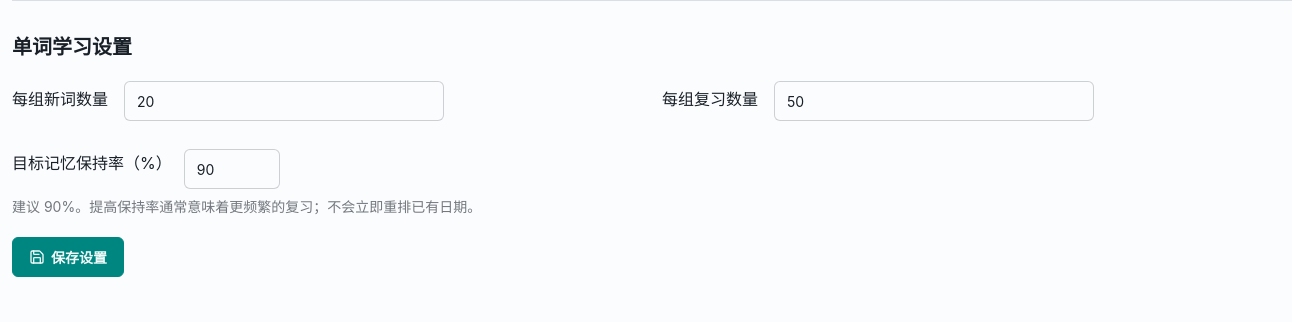
Test: WordStudySettingsPanel › validates learning and review limits independently
This screenshot has width=1292, height=322.
Replace the text in the number field labelled "每组新词数量" with "101" at (284,101), box [124,81,444,121]
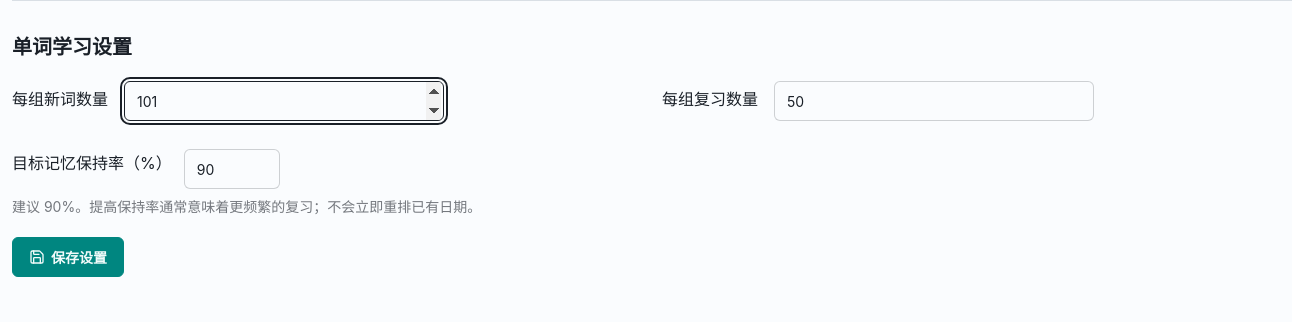
Replace the text in the number field labelled "每组复习数量" with "201" at (934,101), box [774,81,1094,121]
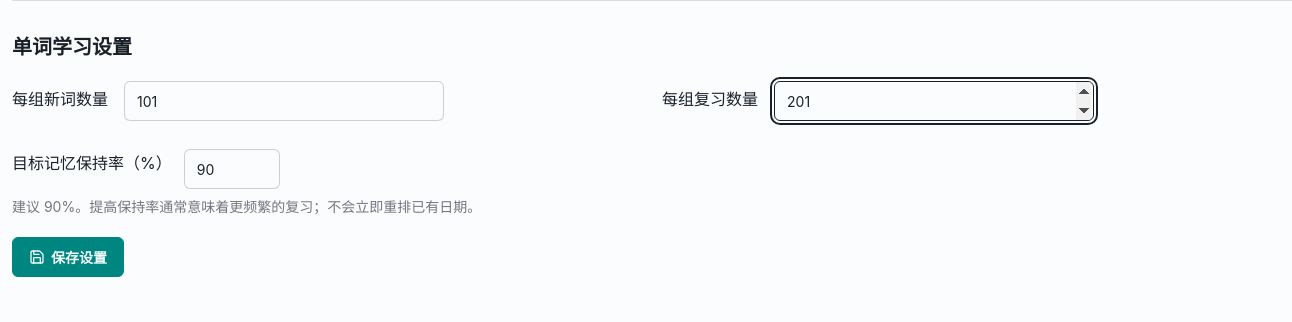
Click the button "保存设置" at (68,257), box [12,237,124,277]
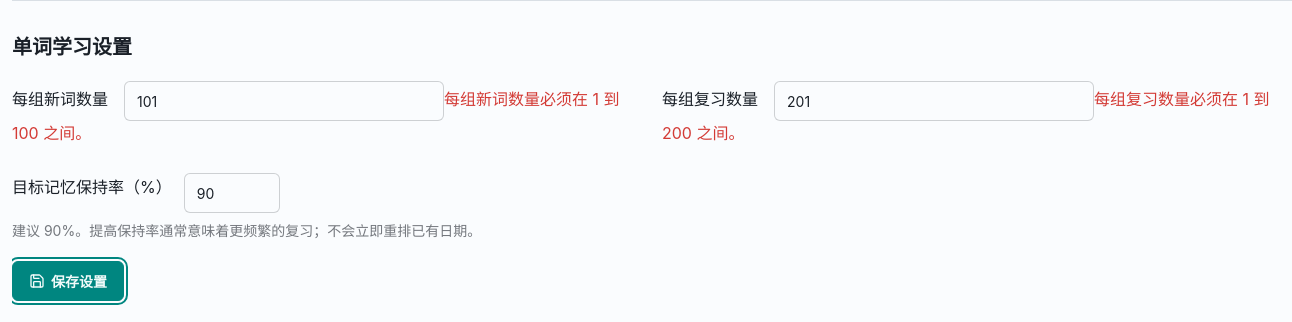
Expected: the text "每组新词数量必须在 1 到 100 之间。" is shown, [12,89,620,143]
Expected: the text "每组复习数量必须在 1 到 200 之间。" is shown, [662,89,1270,143]
